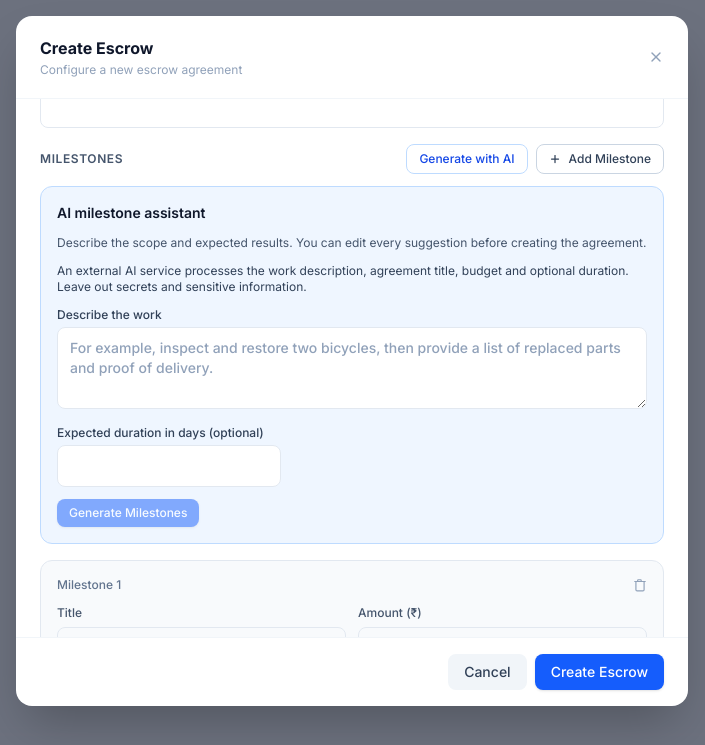
Test case: AI milestone assistant › requires valid inputs and offers the assistant only for milestone agreements
Earlier steps of the test are not shown.
(page scrolled)
Expected: the button "Generate Milestones" is disabled, [57,499,199,527]
Step 1. Replace the text in the text box labelled "Describe the work" with "Inspect and restore a bicycle." → (352, 368), box [57,327,647,409]
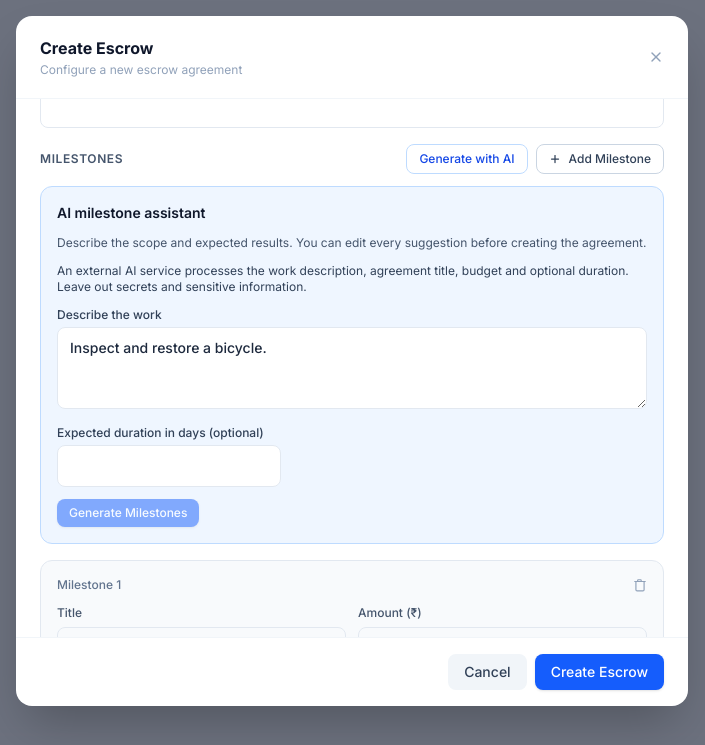
Step 2. Type "0.000000001" into the field labelled "Agreement amount (₹)" → (352, 107), box [40,86,664,128]
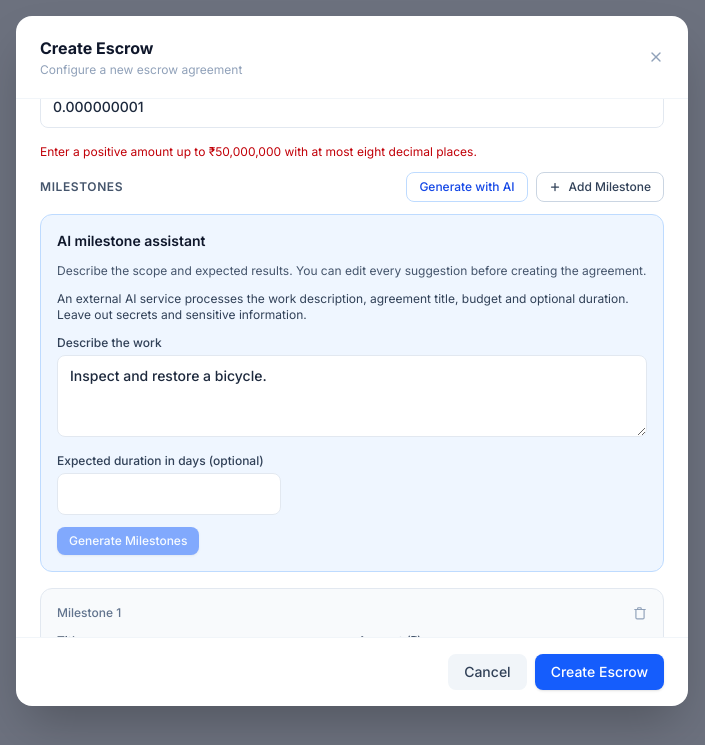
Expected: the button "Generate Milestones" is disabled, [57,527,199,555]
Step 3. Replace the text in the field labelled "Agreement amount (₹)" with "0.30" → (352, 107), box [40,86,664,128]
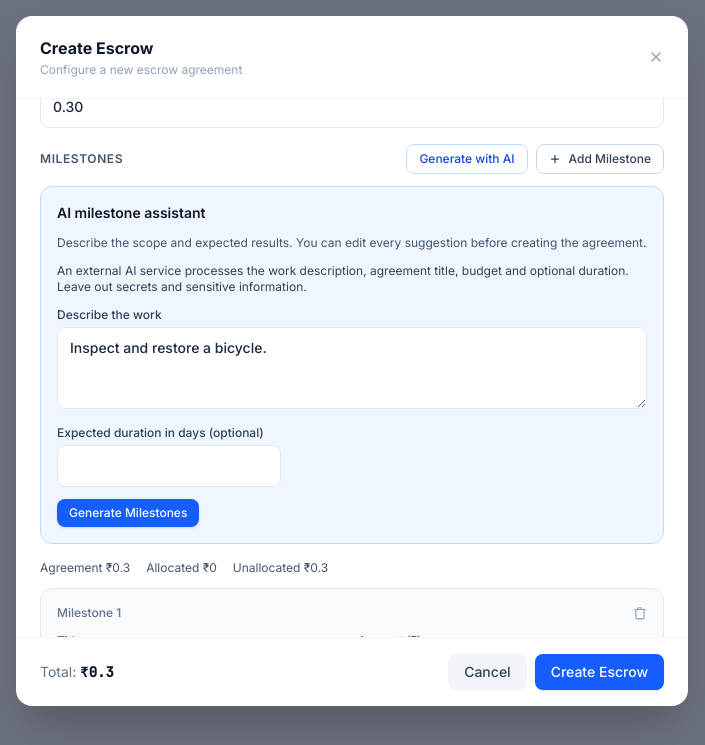
Step 4. Type "1.5" into the number field labelled "Expected duration in days (optional)" → (169, 466), box [57,445,281,487]
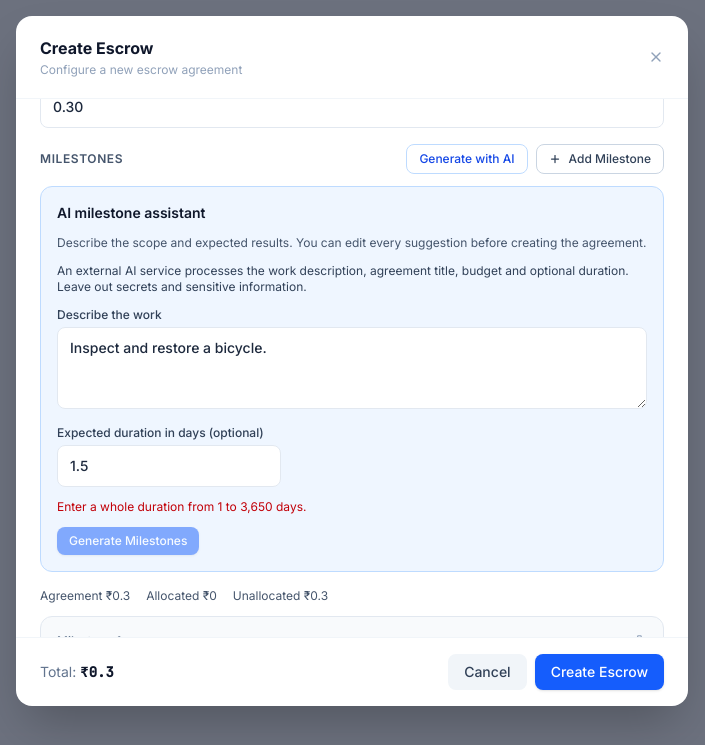
Expected: the button "Generate Milestones" is disabled, [57,527,199,555]
Step 5. Replace the text in the number field labelled "Expected duration in days (optional)" with "5" → (169, 466), box [57,445,281,487]
(page scrolled)
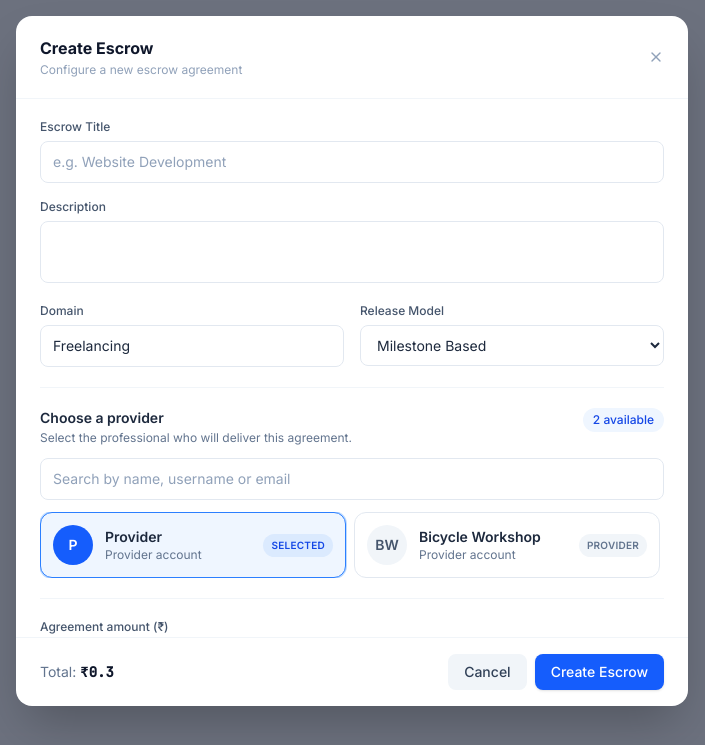
Step 6. Select "Condition Based" in the dropdown named "Release model" → (512, 346), box [360,325,664,366]
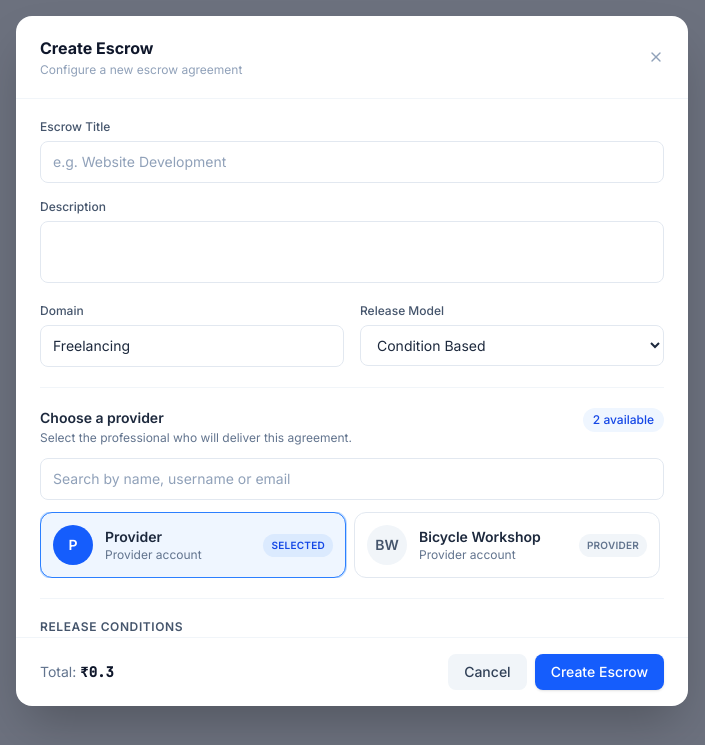
Expected: the button "Generate with AI" is not shown
Expected: the text "Release Conditions" is shown, [40,619,183,634]
